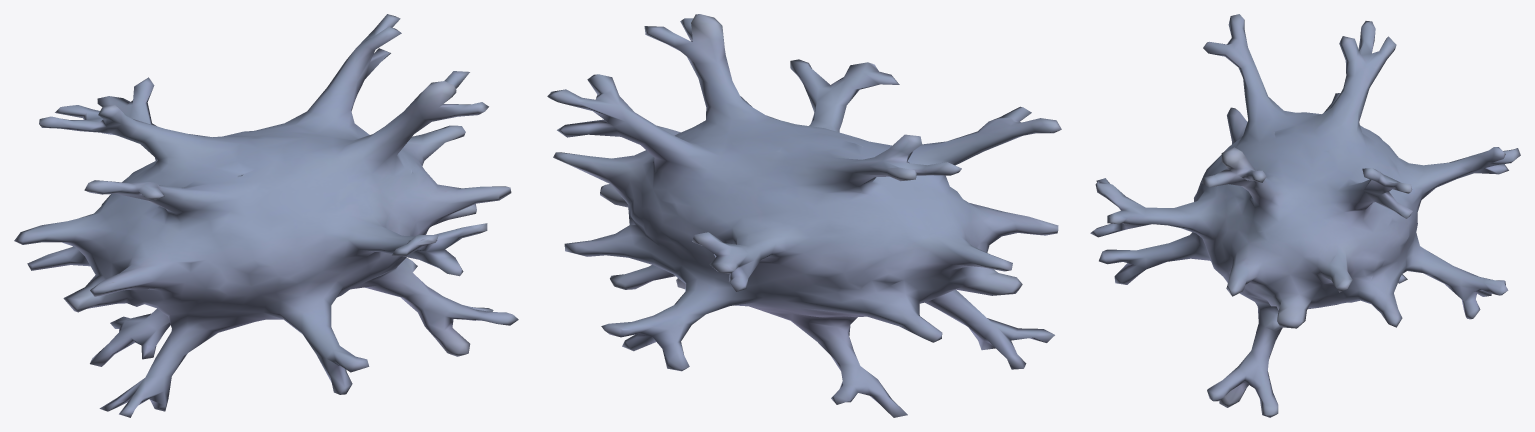
File: dendritic.glb
3 views of the same model, side by side, from view 1: azimuth 30°, elevation 25°; view 2: azimuth 150°, elevation 25°; view 3: azimuth 270°, elevation 25° (orthographic). The views are drawn at different scales.
Parts seen in each view (by area): view 1: dendritic; view 2: dendritic; view 3: dendritic.
Part boxes in pixels (x1,y1,x2,y2): dendritic: [14, 14, 518, 417]; dendritic: [547, 14, 1061, 417]; dendritic: [1090, 14, 1520, 417].
Bounding box in the file's own units: 3.93 × 2.3 × 3.64.
Materials: 1 (1 with a texture image).
